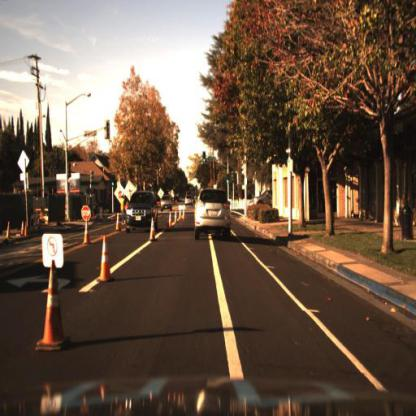car: (197, 188, 237, 245), (123, 191, 161, 238), (250, 189, 274, 211), (183, 191, 197, 209)
trafficLight-Green: (224, 178, 231, 192), (109, 179, 116, 192), (203, 150, 208, 166), (226, 175, 232, 187)
